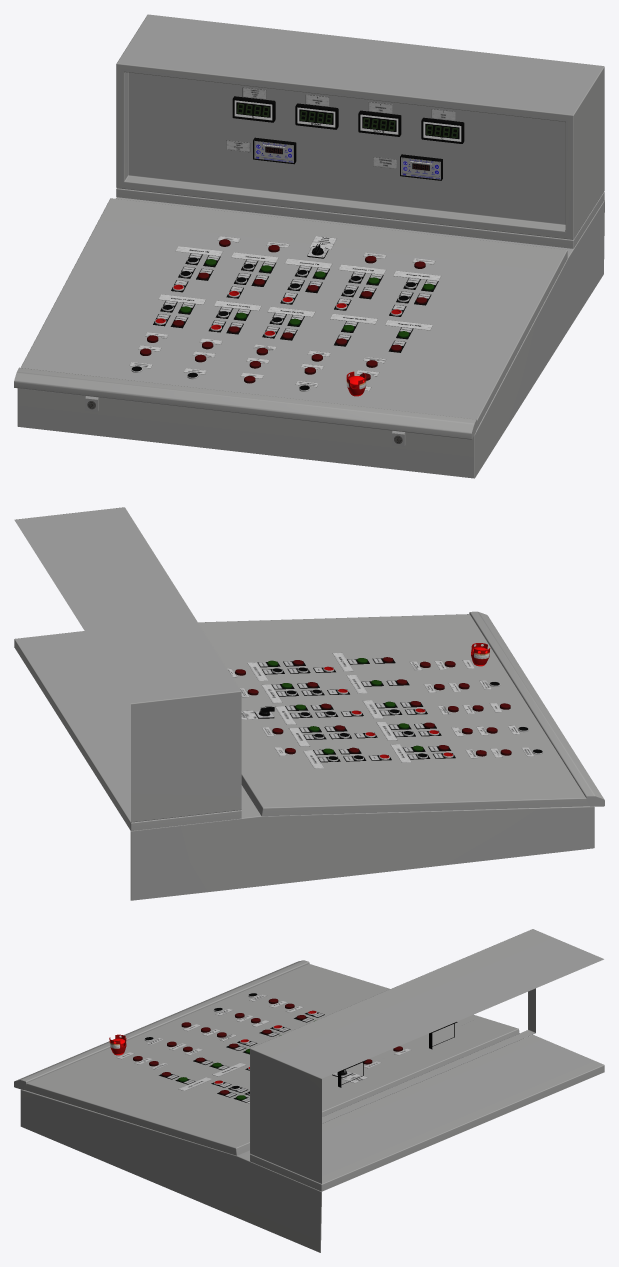
File: Console_UGKS.glb
The picture shows the model from 3 angles, top to bottom: view 1: azimuth 30°, elevation 25°; view 2: azimuth 150°, elevation 25°; view 3: azimuth 270°, elevation 25°; orthographic projection. The views are drawn at different scales.
Parts seen in each view (by area): view 1: Rectangle003, Object001, Rectangle001, Line001, BRY-i_Base_01 (×2); view 2: Object001, Rectangle003, Rectangle001, Line001; view 3: Object001, Rectangle003, Rectangle001, Line001.
Boxes of the visible parts, x1,y1,x2,y2 form: Rectangle003: (116, 14, 604, 239); Object001: (20, 188, 604, 430); Rectangle001: (17, 197, 604, 478); Line001: (14, 367, 476, 439); BRY-i_Base_01 (×2): (253, 137, 442, 180); Object001: (14, 614, 589, 830); Rectangle003: (14, 507, 241, 822); Rectangle001: (130, 785, 594, 900); Line001: (469, 611, 604, 806); Object001: (24, 964, 604, 1191); Rectangle003: (250, 929, 603, 1183); Rectangle001: (20, 1040, 570, 1252); Line001: (14, 960, 309, 1089).
Bounding box in the file's own units: 1.62 × 0.53 × 1.62.
Materials: 56 (49 with a texture image).
